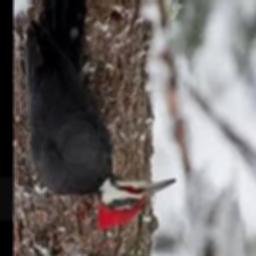Woodpecker: (31, 0, 175, 231)
